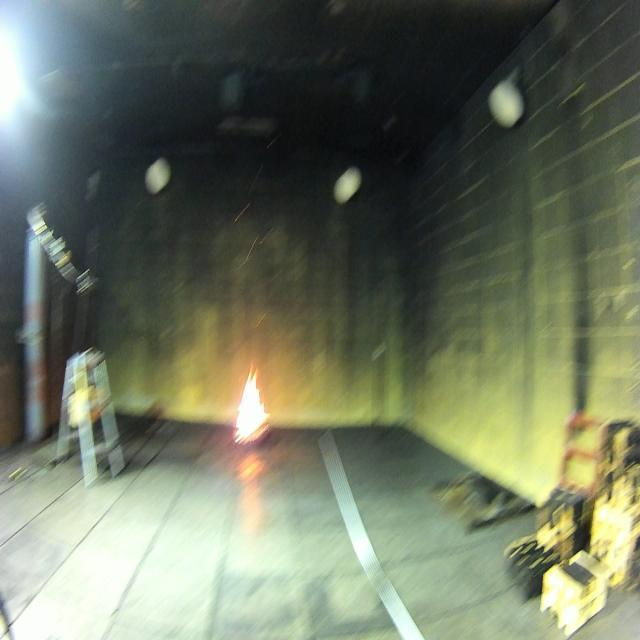Fire: (235, 361, 270, 445)
